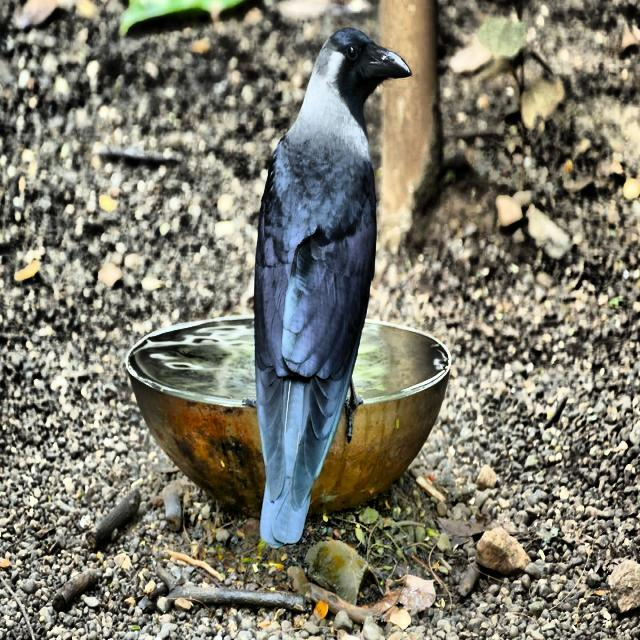crow: (254, 22, 411, 548)
